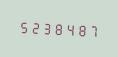eight: (53, 19, 64, 37), (77, 20, 88, 38)
five: (17, 17, 28, 35)
four: (65, 20, 76, 37)
seven: (89, 21, 100, 39)
three: (41, 19, 52, 36)
two: (29, 18, 40, 36)
